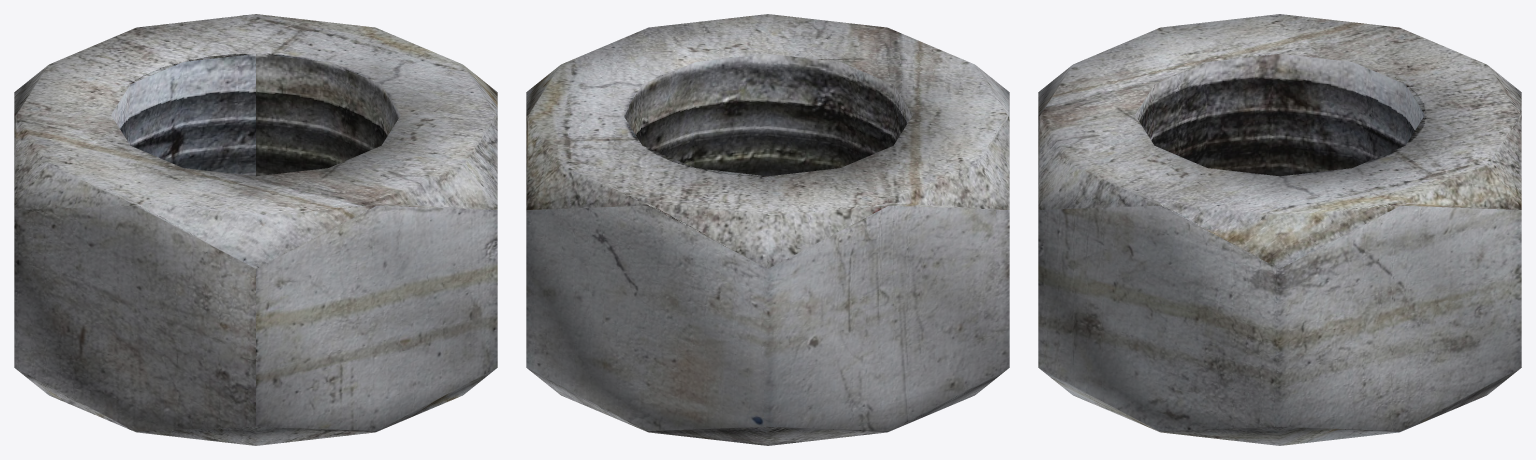
Rendered from nut1.fbx.
The picture shows the model from 3 angles, left to right: view 1: azimuth 30°, elevation 25°; view 2: azimuth 150°, elevation 25°; view 3: azimuth 270°, elevation 25°; orthographic projection.
Parts seen in each view (by area): view 1: Nut_M6_low; view 2: Nut_M6_low; view 3: Nut_M6_low.
Boxes of the visible parts, left/top/right/bottom form: Nut_M6_low: left=14, top=14, right=497, bottom=445; Nut_M6_low: left=526, top=14, right=1009, bottom=445; Nut_M6_low: left=1038, top=14, right=1521, bottom=445.
Size of the model in its own units: 1.15 by 0.525 by 1.
